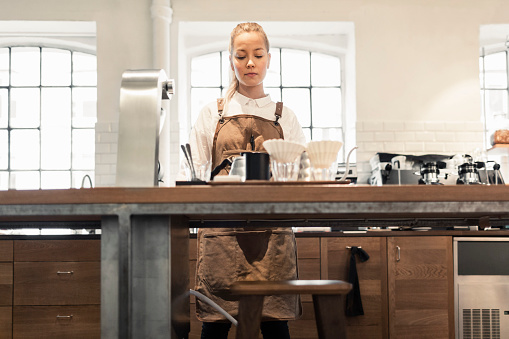em pe: (202, 22, 299, 171)
